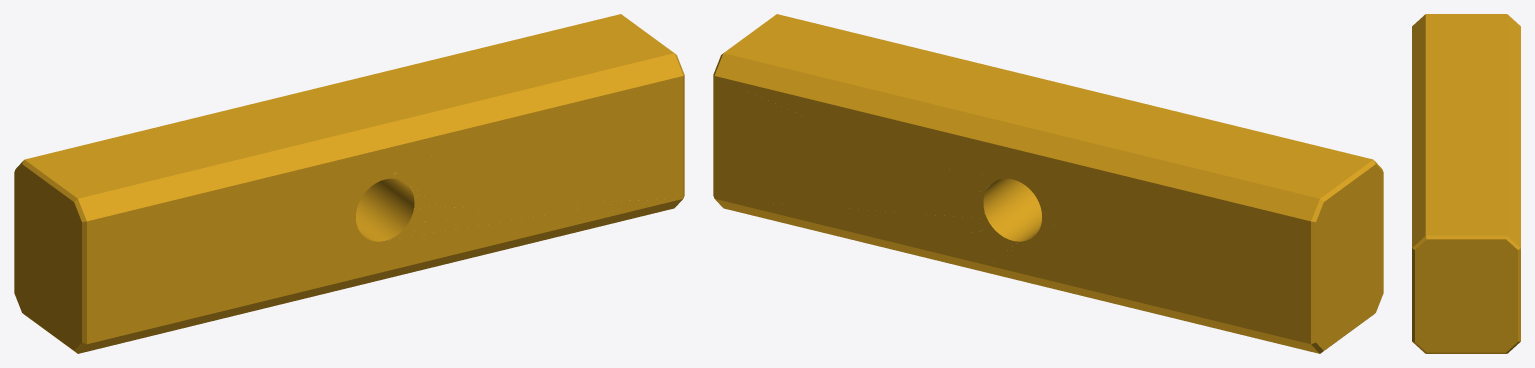
File: takoz-krupp-hm-720-side-buffer-02.glb
3 views of the same model, side by side, from view 1: azimuth 30°, elevation 25°; view 2: azimuth 150°, elevation 25°; view 3: azimuth 270°, elevation 25° (orthographic). The views are drawn at different scales.
Parts seen in each view (by area): view 1: body; view 2: body; view 3: body.
Boxes of the visible parts, x1=… form: body: x1=14, y1=14, x2=684, y2=353; body: x1=713, y1=14, x2=1383, y2=353; body: x1=1412, y1=14, x2=1520, y2=353.
Bounding box in the file's own units: 0.195 × 0.048 × 0.04.
